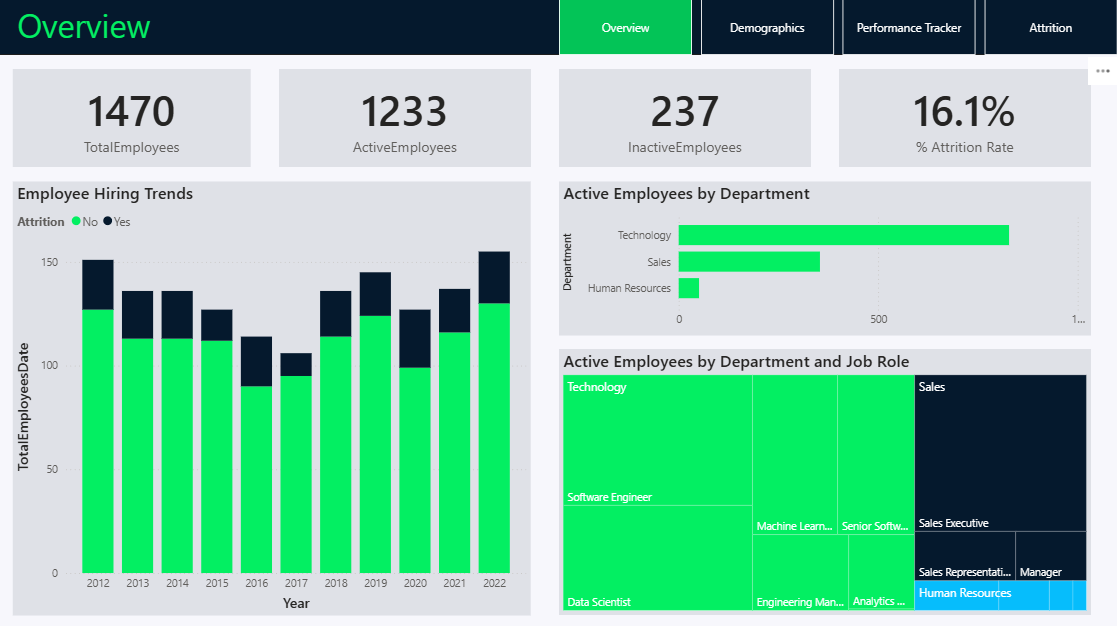

The page's visual inventory and layout, read from the dashboard file:
{"tool":"powerbi","page":{"name":"Overview","canvas":[1280,720],"ordinal":0},"visuals":[{"type":"card","fields":{"Values":["_Measures.TotalEmployees"]},"box":[16,80,272,112],"z":0},{"type":"card","fields":{"Values":["_Measures.ActiveEmployees"]},"box":[320,80,288,112],"z":1000},{"type":"card","fields":{"Values":["_Measures.InactiveEmployees"]},"box":[640,80,288,112],"z":2000},{"type":"card","fields":{"Values":["_Measures.% Attrition Rate"]},"box":[960,80,288,112],"z":3000},{"type":"columnChart","title":"Employee Hiring Trends","fields":{"Category":["DimDate.Date.Variation.Date Hierarchy.Year","DimDate.Date.Variation.Date Hierarchy.Quarter","DimDate.Date.Variation.Date Hierarchy.Month","DimDate.Date.Variation.Date Hierarchy.Day"],"Y":["_Measures.TotalEmployeesDate"],"Series":["DimEmployee.Attrition"]},"box":[16,208,592,496],"z":4000},{"type":"clusteredBarChart","title":"Active Employees by Department","fields":{"Category":["DimEmployee.Department"],"Y":["_Measures.ActiveEmployees"]},"box":[640,208,608,176],"z":5000},{"type":"treemap","title":"Active Employees by Department and Job Role","fields":{"Values":["_Measures.ActiveEmployees"],"Group":["DimEmployee.Department"],"Details":["DimEmployee.JobRole"]},"box":[640,400,608,304],"z":6000},{"type":"shape","box":[0,0,1280,64],"z":7000},{"type":"textbox","box":[16,0,448,64],"z":8000},{"type":"pageNavigator","box":[640,0,640,64],"z":9000}]}

Visuals, with their boxes in screenshot pixels (x1, y1, x2, y2), scaled from the page's 1280x720 canvas onto the 1117x626 screenshot:
card - _Measures.TotalEmployees: (left=14, top=70, right=251, bottom=167)
card - _Measures.ActiveEmployees: (left=279, top=70, right=531, bottom=167)
card - _Measures.InactiveEmployees: (left=558, top=70, right=810, bottom=167)
card - _Measures.% Attrition Rate: (left=838, top=70, right=1089, bottom=167)
"Employee Hiring Trends" columnChart: (left=14, top=181, right=531, bottom=612)
"Active Employees by Department" clusteredBarChart: (left=558, top=181, right=1089, bottom=334)
"Active Employees by Department and Job Role" treemap: (left=558, top=348, right=1089, bottom=612)
shape: (left=0, top=0, right=1116, bottom=56)
textbox: (left=14, top=0, right=405, bottom=56)
pageNavigator: (left=558, top=0, right=1116, bottom=56)
